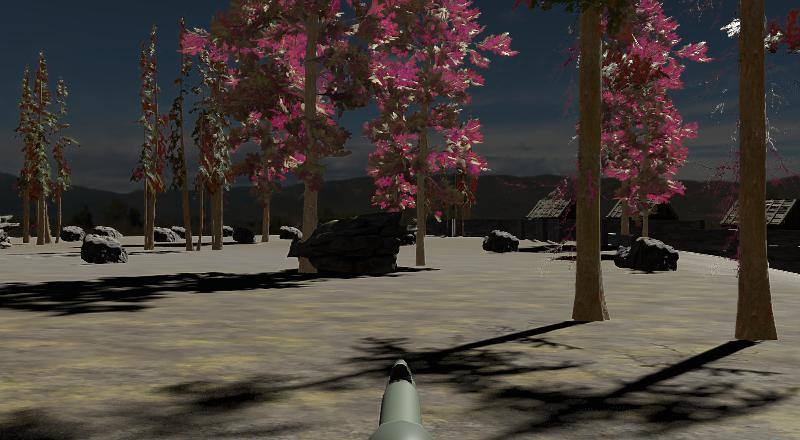Tank: (79, 234, 130, 266)
